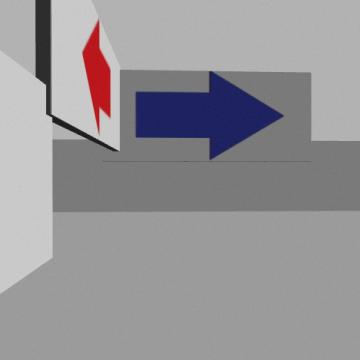blue_right: (136, 72, 283, 159)
red_left: (82, 20, 110, 135)
